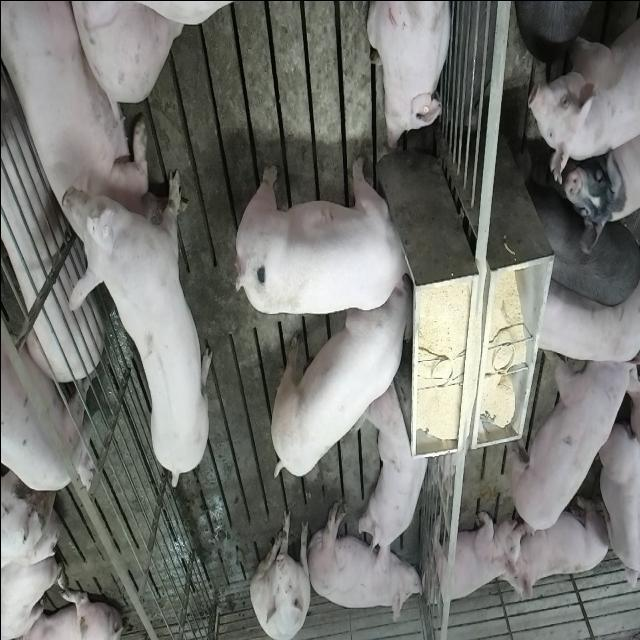Feeding: (264, 278, 412, 481), (228, 155, 410, 317)
Lateral_lying: (306, 498, 426, 624)
Sitting: (250, 506, 312, 638)
Standing: (62, 151, 212, 483), (508, 340, 634, 537), (525, 0, 638, 184), (0, 290, 94, 488), (520, 167, 638, 310), (528, 274, 640, 362), (561, 126, 637, 255)
Sternal_lying: (0, 0, 147, 267), (359, 381, 434, 573), (365, 0, 453, 151), (504, 488, 612, 602), (426, 508, 514, 604)
